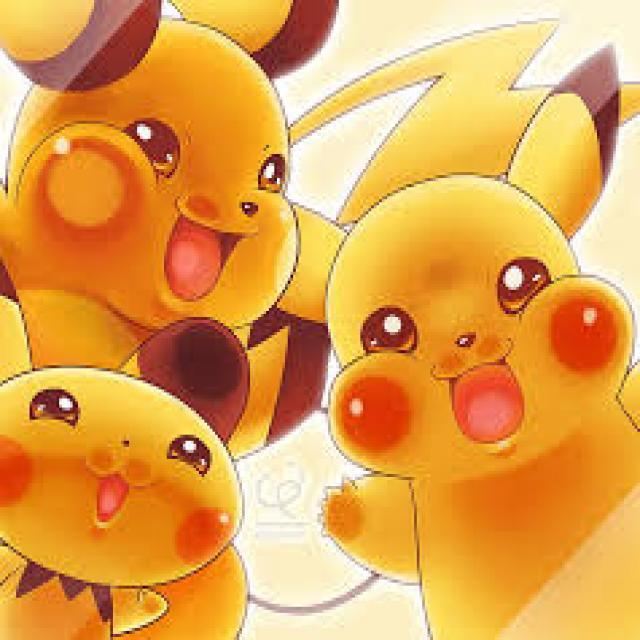pichu: (0, 311, 285, 640)
